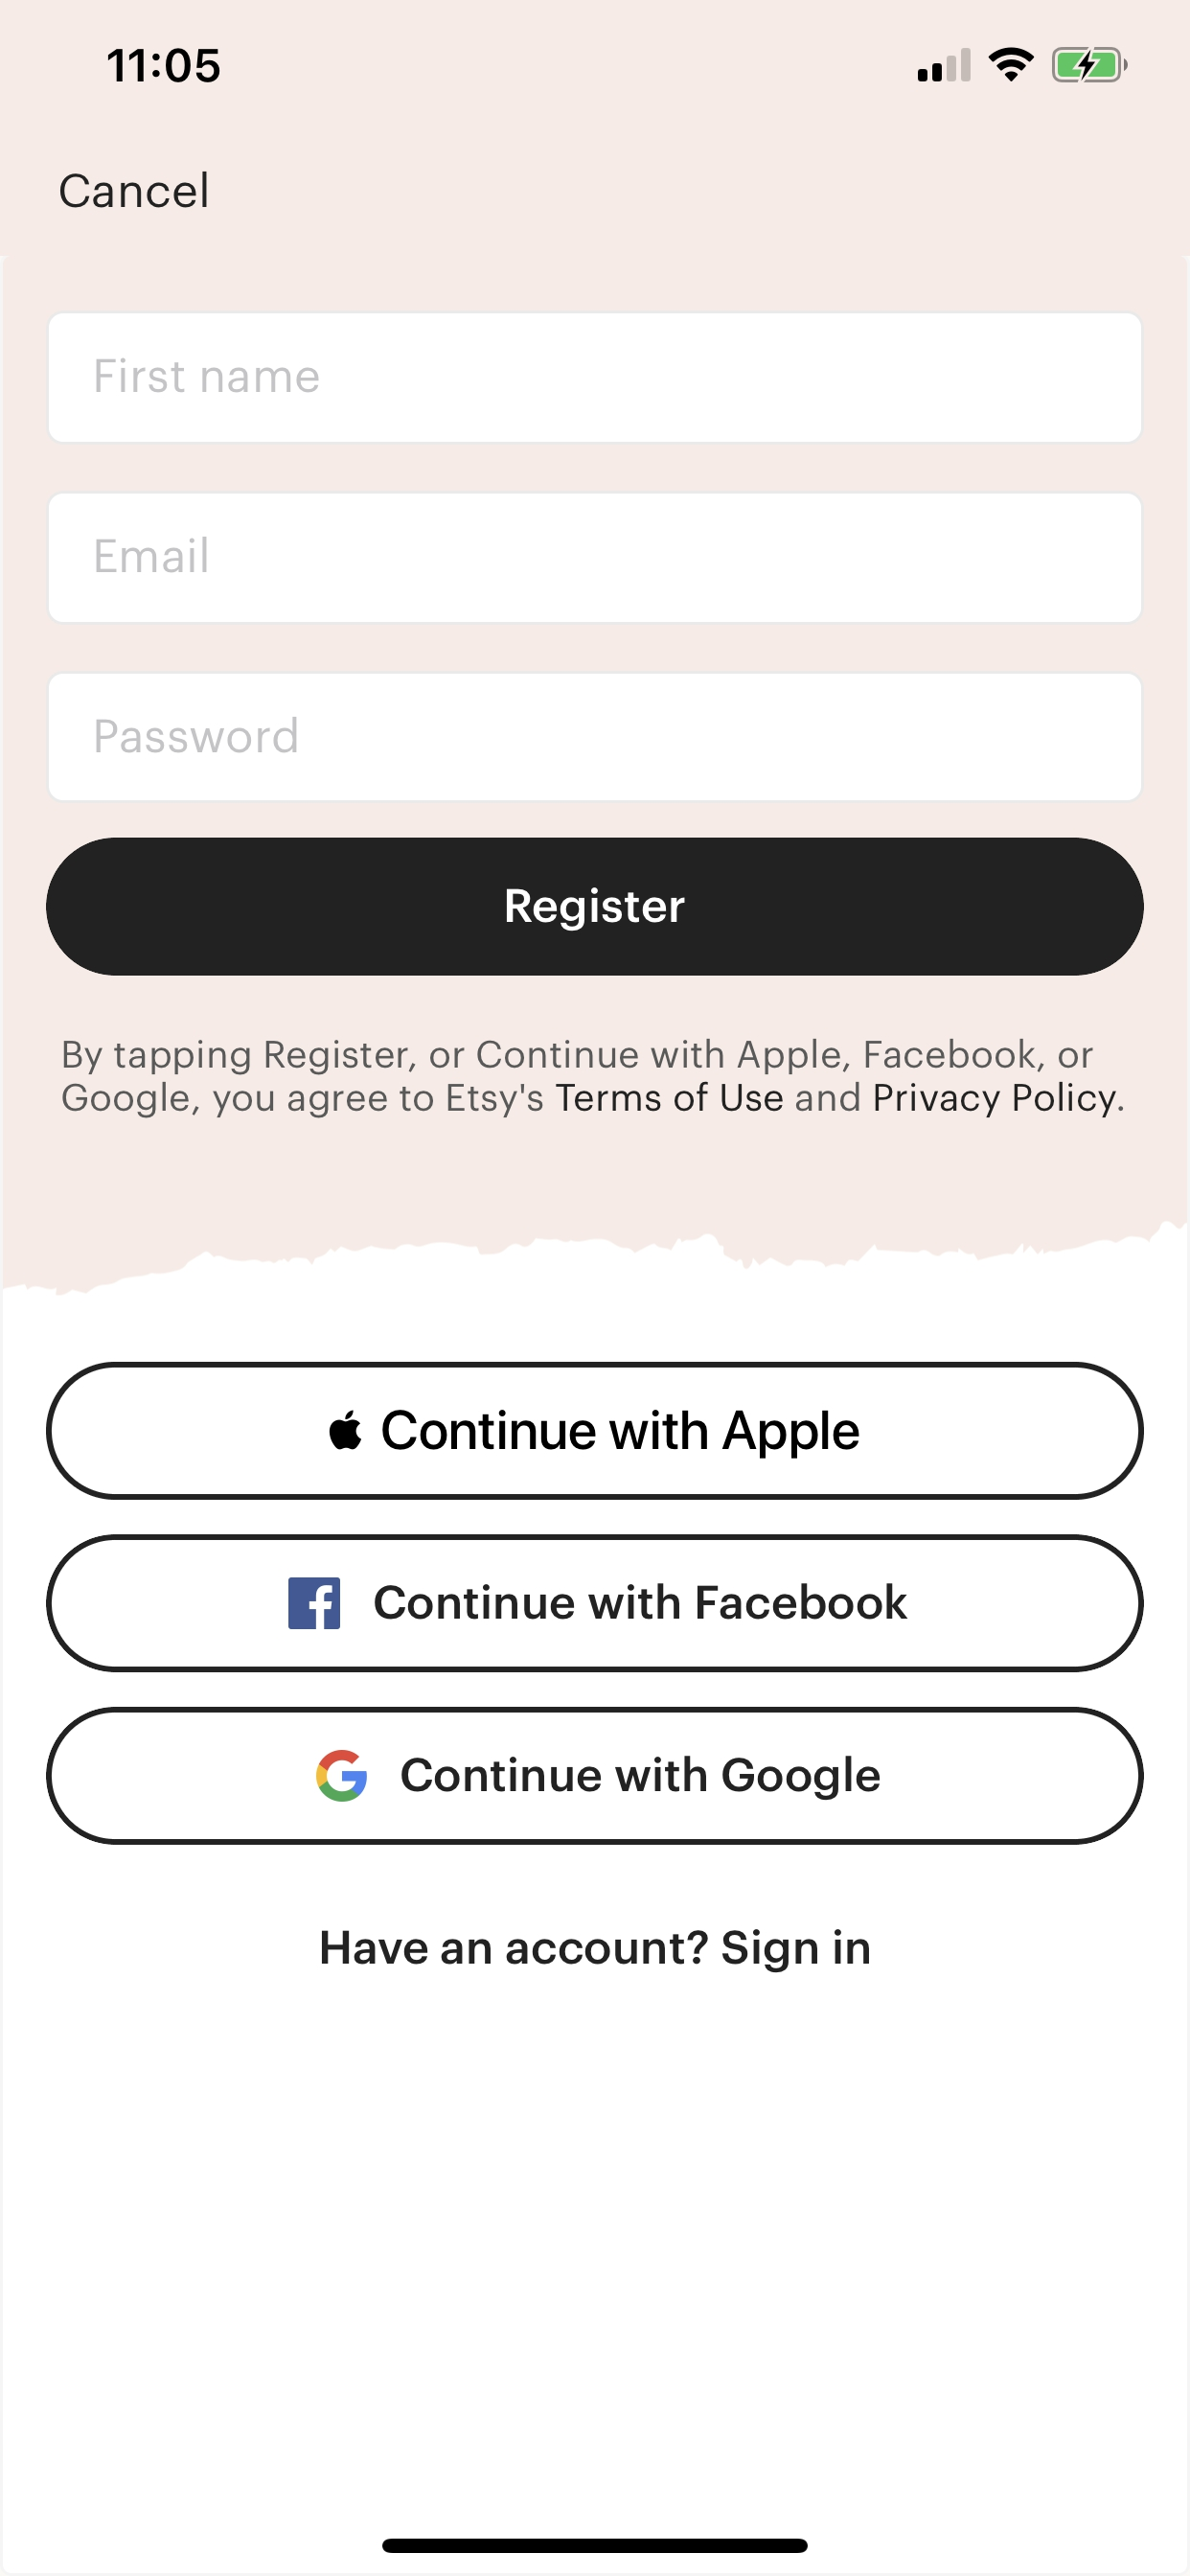EditText: (46, 310, 1144, 445), (46, 670, 1144, 803), (46, 491, 1144, 624)
Text: (62, 1038, 1123, 1119), (322, 1929, 869, 1973), (95, 358, 321, 394), (95, 716, 297, 754), (61, 171, 207, 209), (95, 537, 207, 573)
TextButton: (48, 1705, 1144, 1845), (48, 1362, 1144, 1500), (48, 1534, 1144, 1672), (46, 838, 1142, 976)
UpperTaskBar: (107, 48, 1128, 84)
